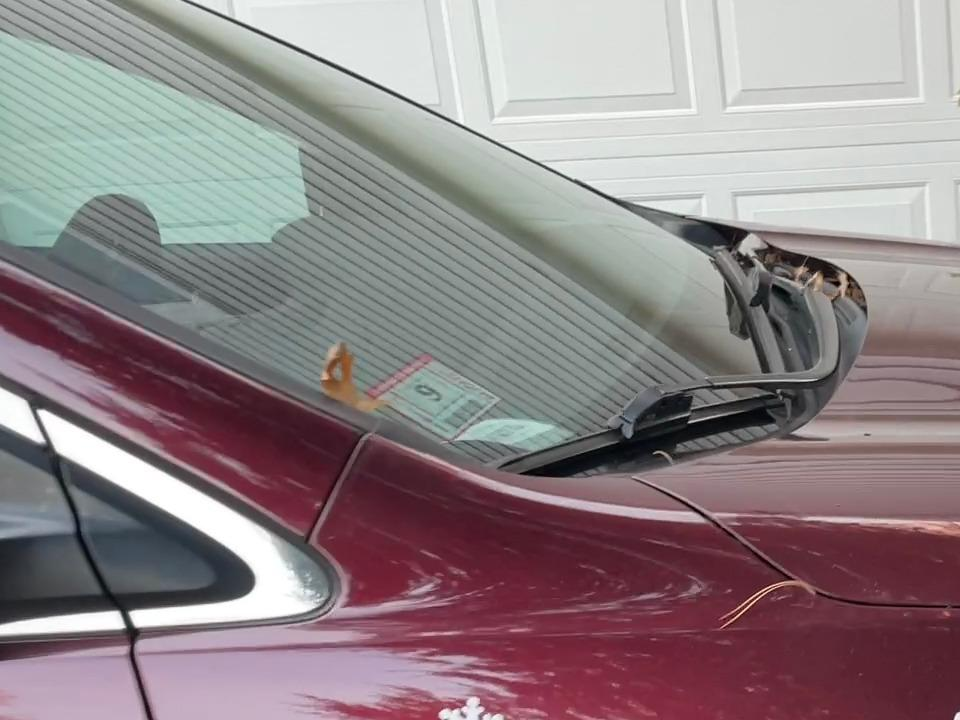dent: (432, 690, 515, 720), (940, 680, 960, 720)
